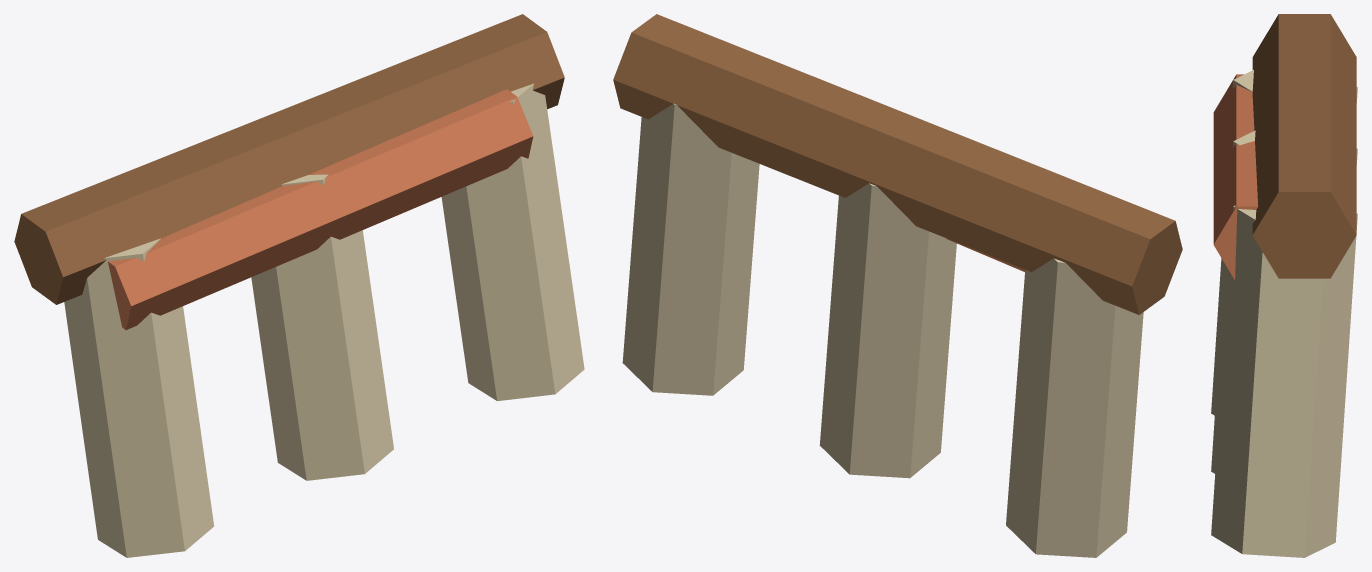
Rendered from trophy_rack.glb.
The picture shows the model from 3 angles, left to right: view 1: azimuth 30°, elevation 25°; view 2: azimuth 150°, elevation 25°; view 3: azimuth 270°, elevation 25°; orthographic projection. The views are drawn at different scales.
Parts seen in each view (by area): view 1: trophy_rack; view 2: trophy_rack; view 3: trophy_rack.
Boxes of the visible parts, x1=… form: trophy_rack: x1=14, y1=14, x2=584, y2=557; trophy_rack: x1=613, y1=14, x2=1182, y2=557; trophy_rack: x1=1211, y1=14, x2=1357, y2=557.
Bounding box in the file's own units: 0.4935 × 0.3704 × 0.1128.
